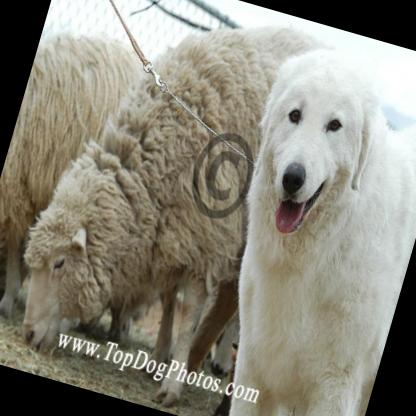kuvasz: (176, 35, 416, 416)
